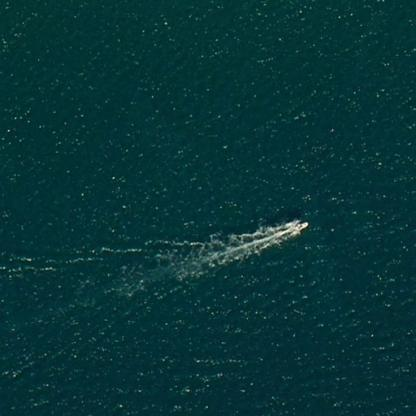ship: (280, 214, 311, 238)
